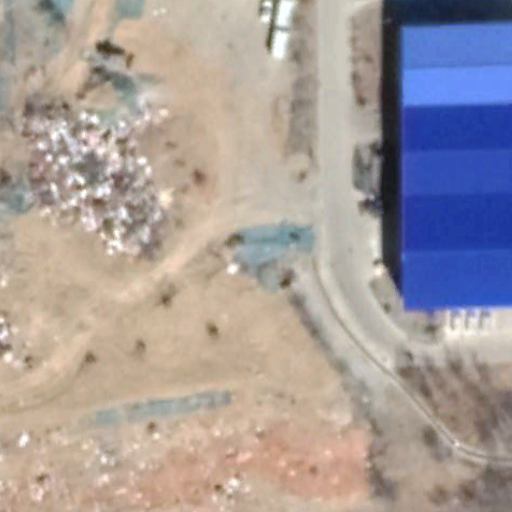msw: (18, 110, 179, 255)
